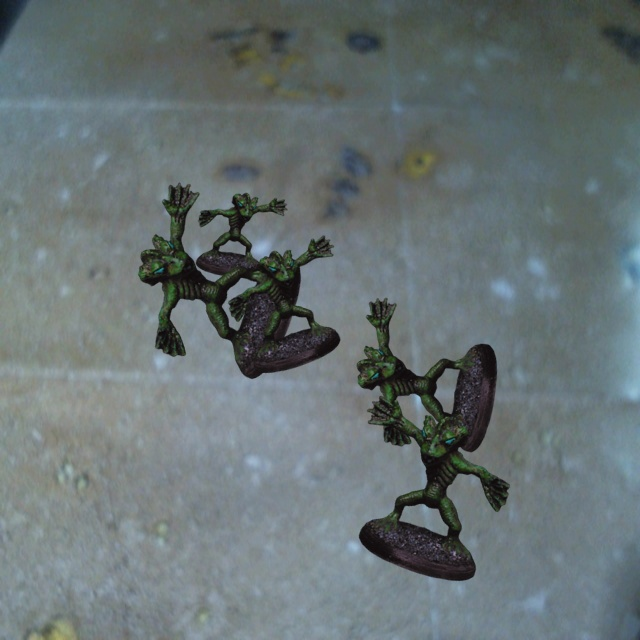pieza_juego: (138, 182, 300, 378), (359, 396, 509, 580), (357, 298, 496, 451), (228, 235, 339, 372), (196, 193, 287, 277)
